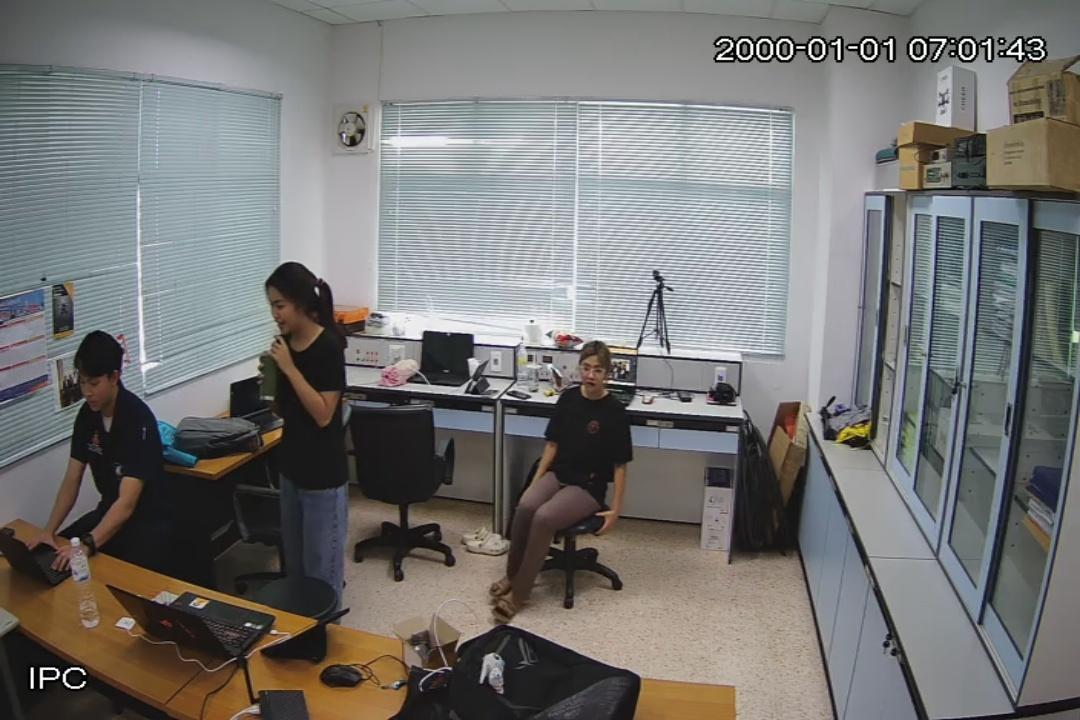normal: (494, 336, 625, 618), (256, 259, 358, 606), (46, 330, 183, 577)
